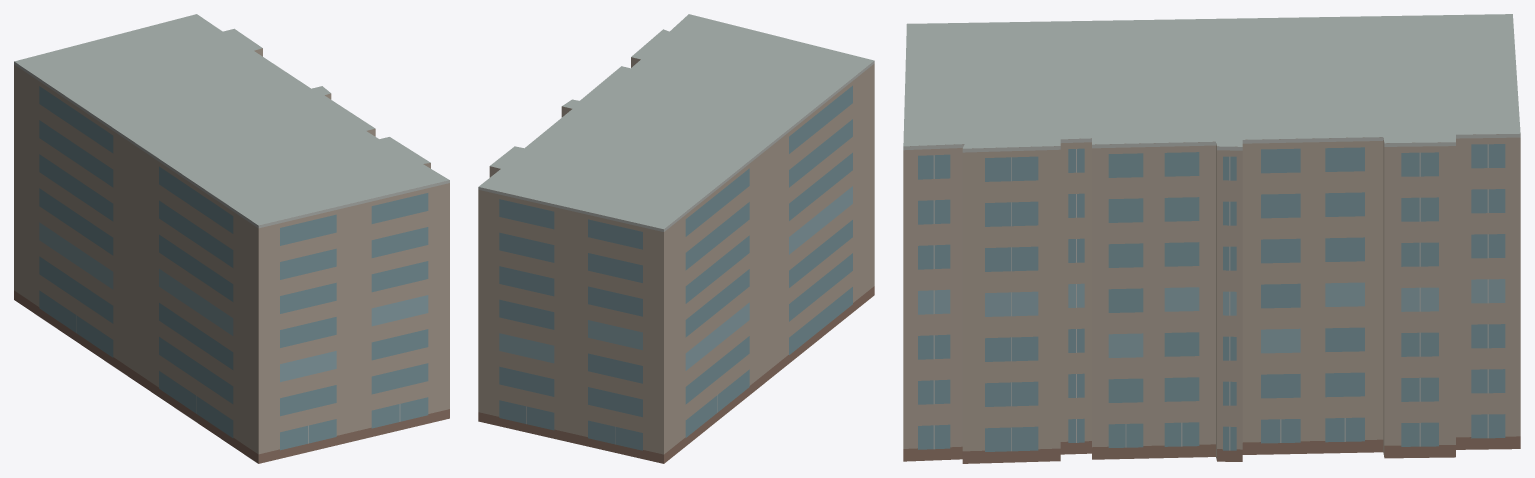
Rendered from survey-upis-32864746.glb.
The picture shows the model from 3 angles, left to right: view 1: azimuth 30°, elevation 25°; view 2: azimuth 150°, elevation 25°; view 3: azimuth 270°, elevation 25°; orthographic projection. The views are drawn at different scales.
Visible parts, largest first — view 1: survey-upis-32864746.tmp; view 2: survey-upis-32864746.tmp; view 3: survey-upis-32864746.tmp.
Part boxes in pixels (box(x1,y1,x2,y2)): survey-upis-32864746.tmp: box(14, 14, 449, 463); survey-upis-32864746.tmp: box(478, 14, 874, 463); survey-upis-32864746.tmp: box(903, 14, 1520, 463).
Bounding box in the file's own units: 18.44 × 20.1 × 35.68.
